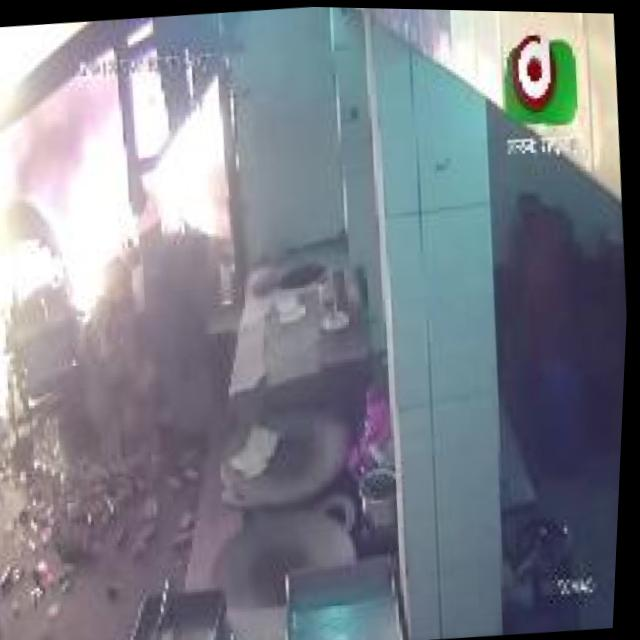fire: (33, 74, 243, 341), (0, 22, 102, 440)
